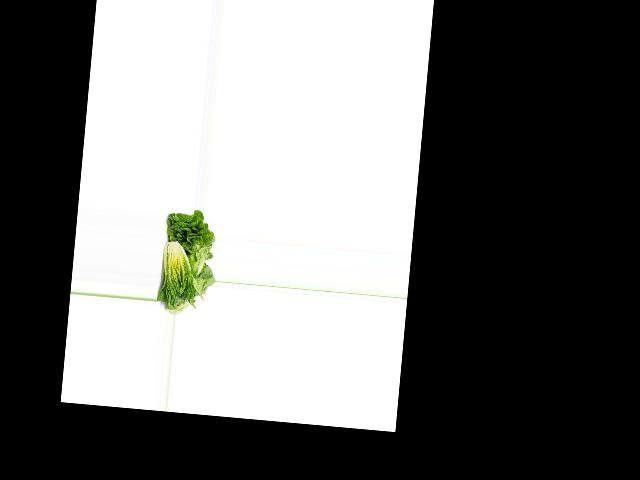lettuce: (158, 209, 217, 275)
